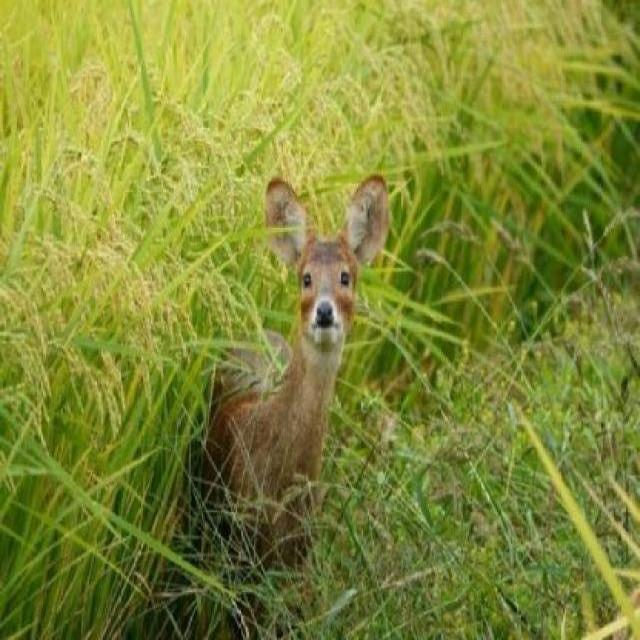deer: (188, 171, 398, 586)
